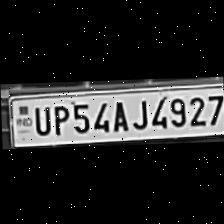2: (185, 92, 205, 126)
4: (147, 93, 167, 128), (88, 98, 108, 132)
5: (66, 99, 90, 134)
7: (204, 90, 222, 124)
9: (166, 92, 186, 126)
A: (107, 97, 129, 131)
J: (128, 94, 148, 128)
P: (48, 100, 68, 134)
U: (29, 100, 49, 134)
